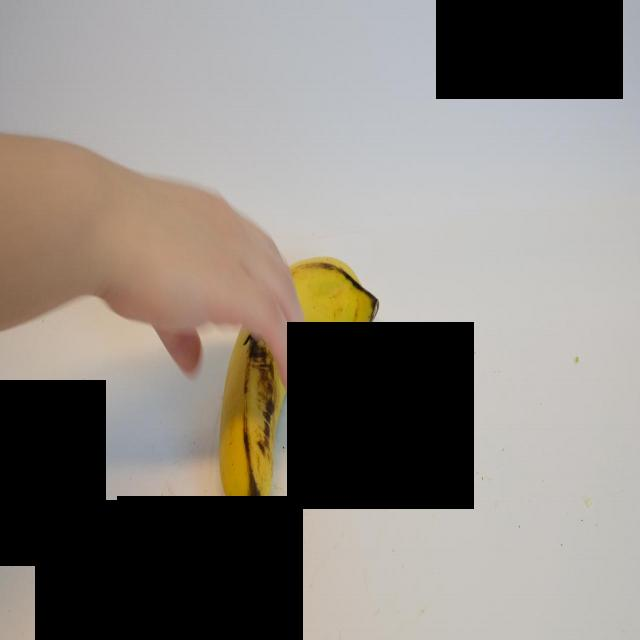banana: (214, 238, 379, 532)
